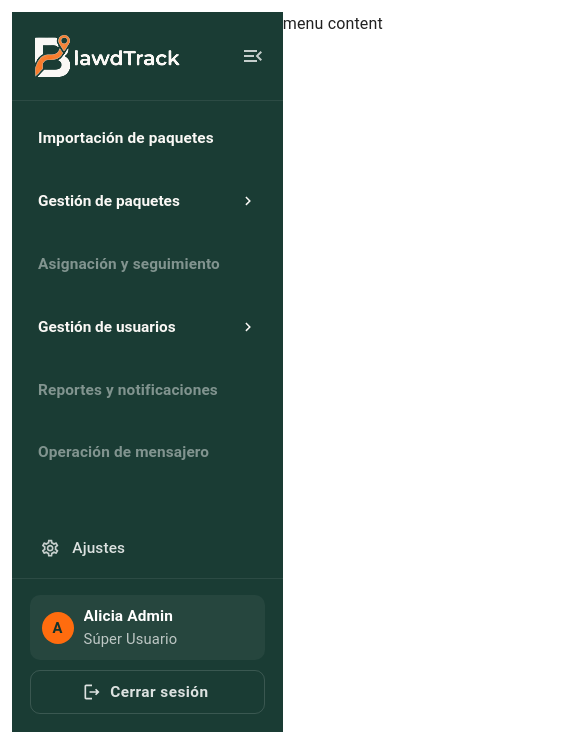
Scenario: MainMenuLayout sidebar › collapsed sidebar › hover flyouts › keeps both boxes open while the cursor is inside the second one and navigates from it
Click the button named "Colapsar menú" at {"x": 253, "y": 56}, box [231,34,275,78]
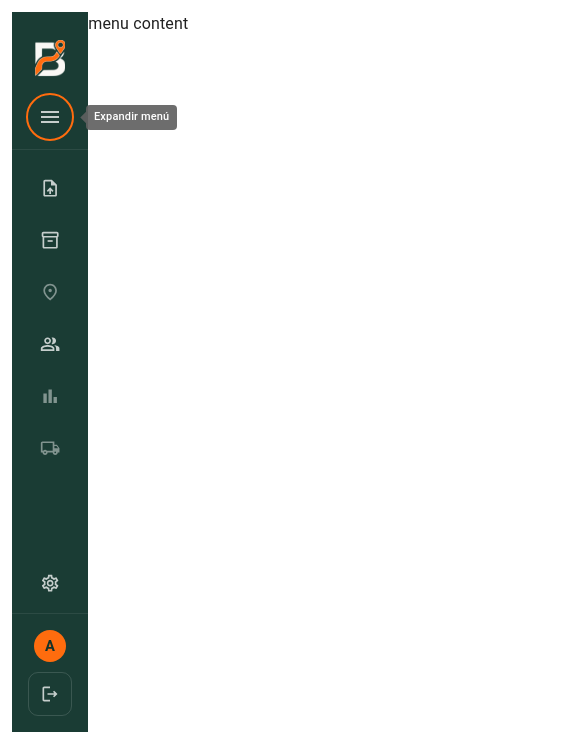
Hover over the button named "Gestión de usuarios" at {"x": 50, "y": 344}, box [28,322,72,366]
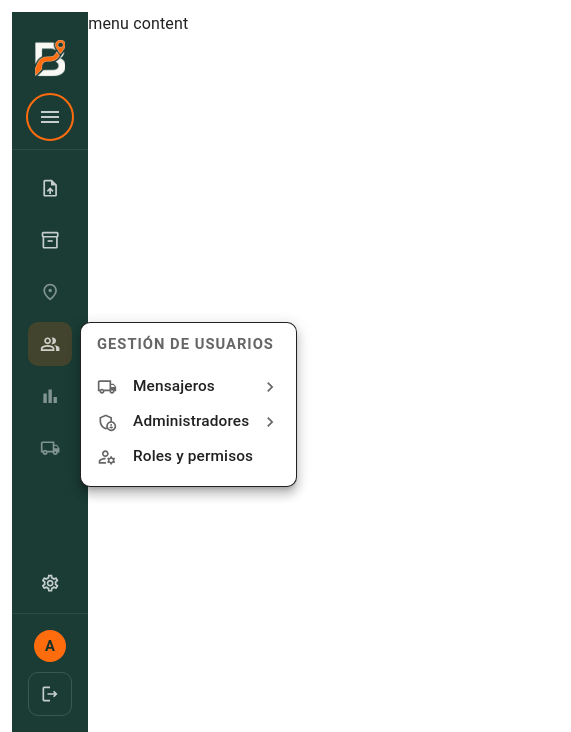
Hover over the menu item "Administradores" at {"x": 188, "y": 422}, box [97,412,280,432]
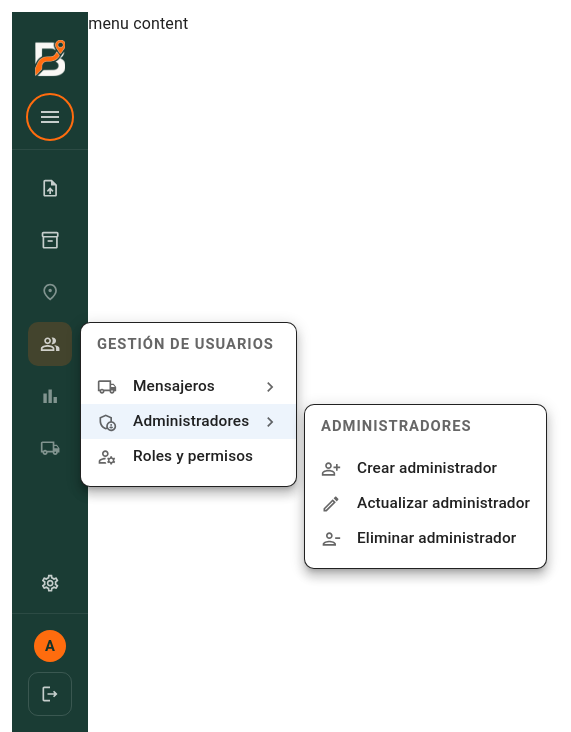
Hover over the menu item "Crear administrador" at {"x": 409, "y": 469}, box [321,459,497,479]
Now the menu item "Administradores" is shown, box [81,404,296,439]
Now the menu item "Crear administrador" is shown
Click the menu item "Crear administrador" at {"x": 409, "y": 469}, box [321,459,497,479]
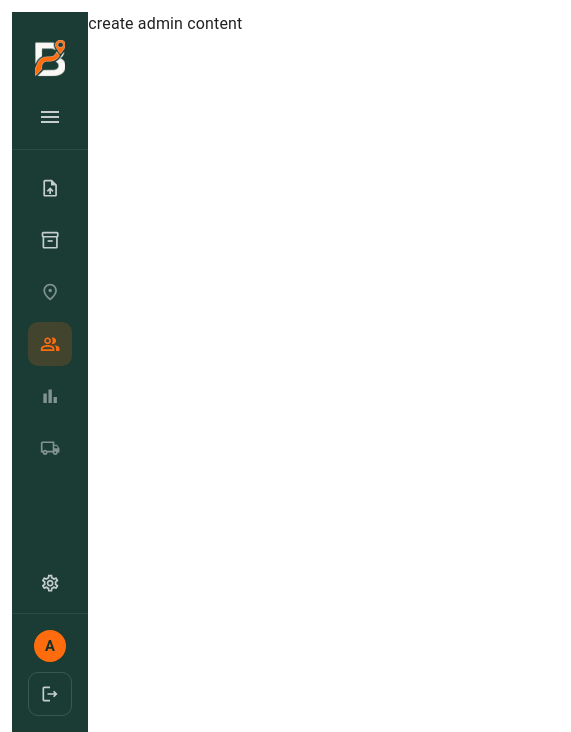
Now the text "create admin content" is shown, box [88,14,242,33]
